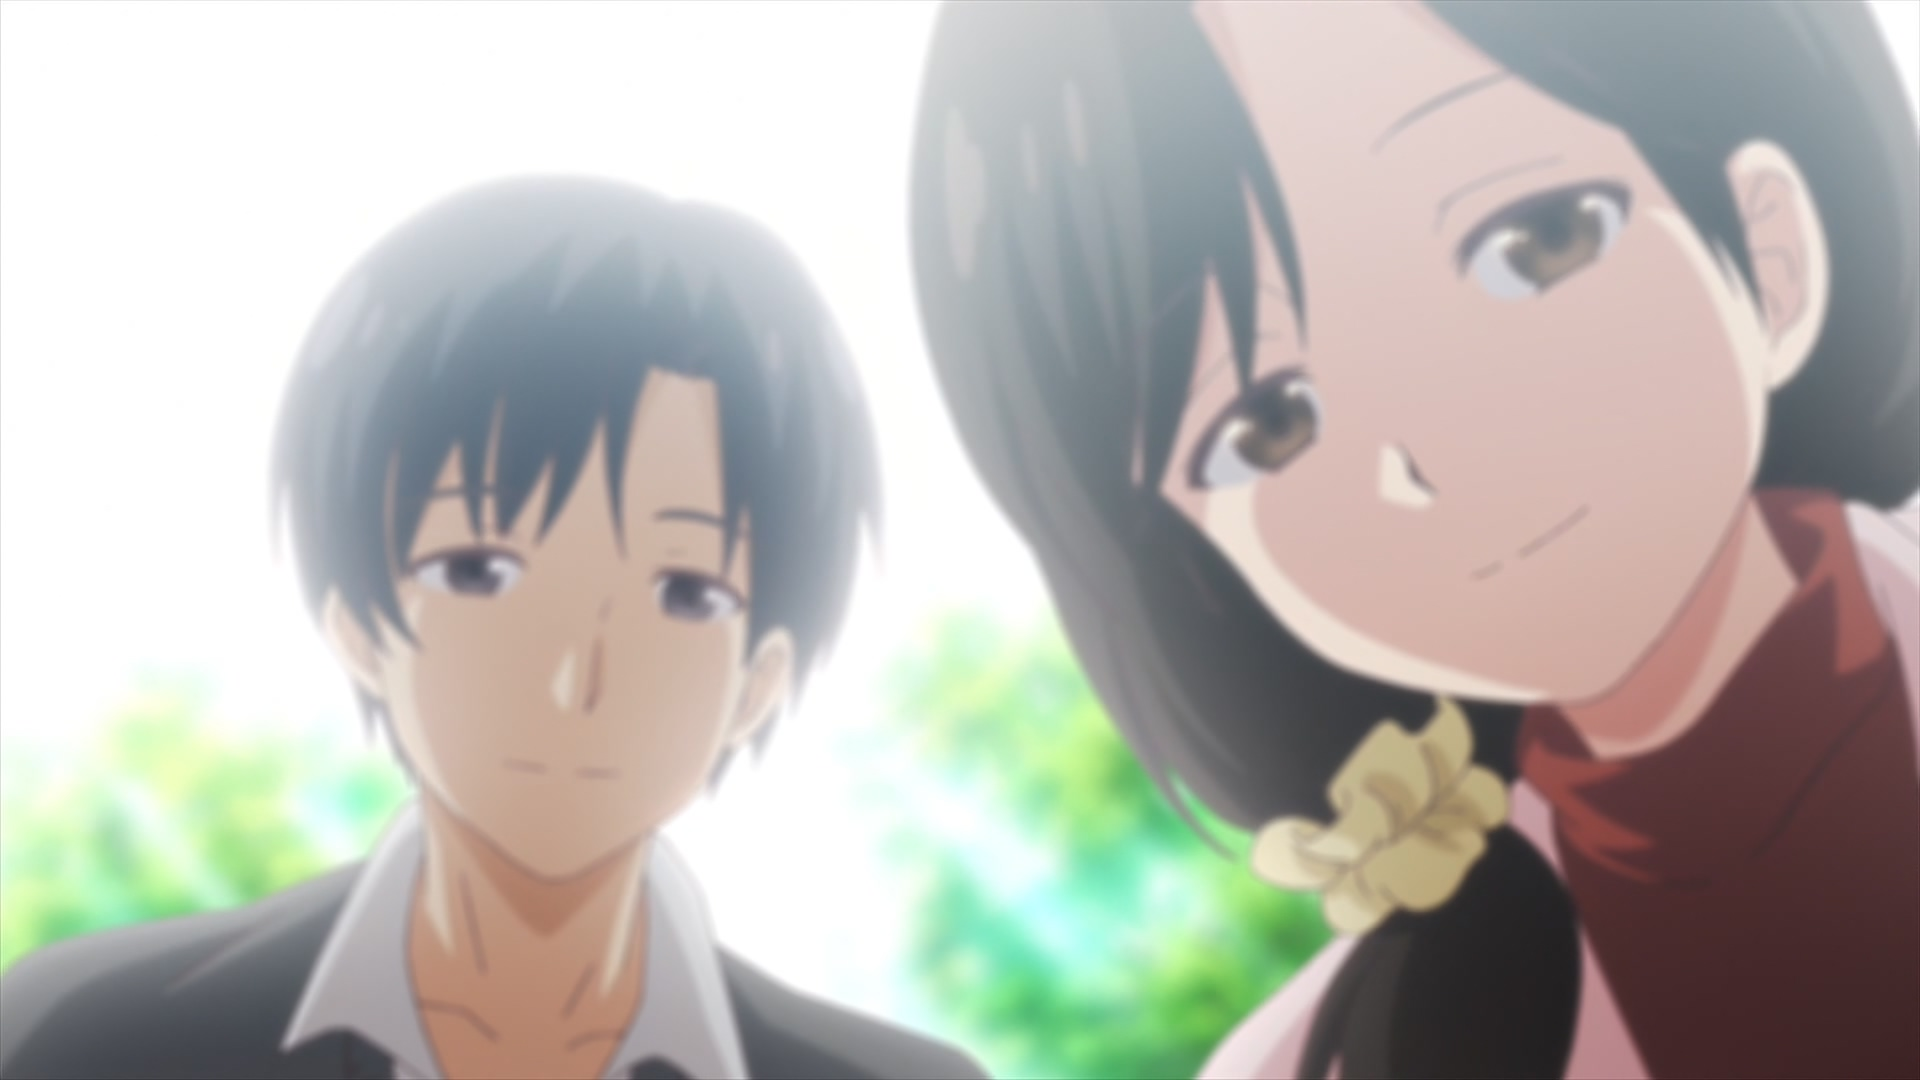其他: (909, 1, 1920, 1080), (1, 175, 997, 1080)
